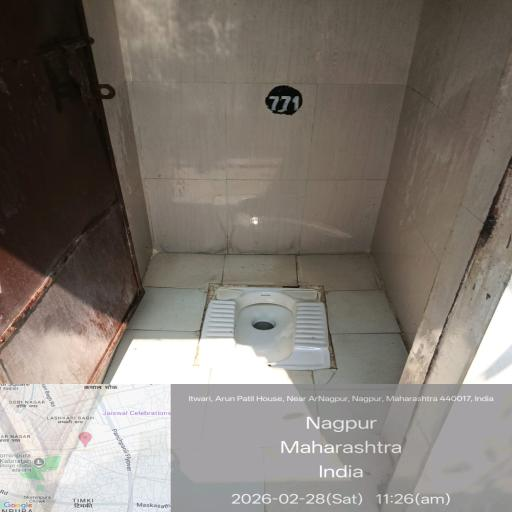clean_floor: (118, 0, 495, 232), (143, 296, 190, 384)
partial_dirty_floor: (2, 220, 128, 397), (201, 283, 332, 371), (148, 235, 377, 282), (325, 287, 415, 378)
